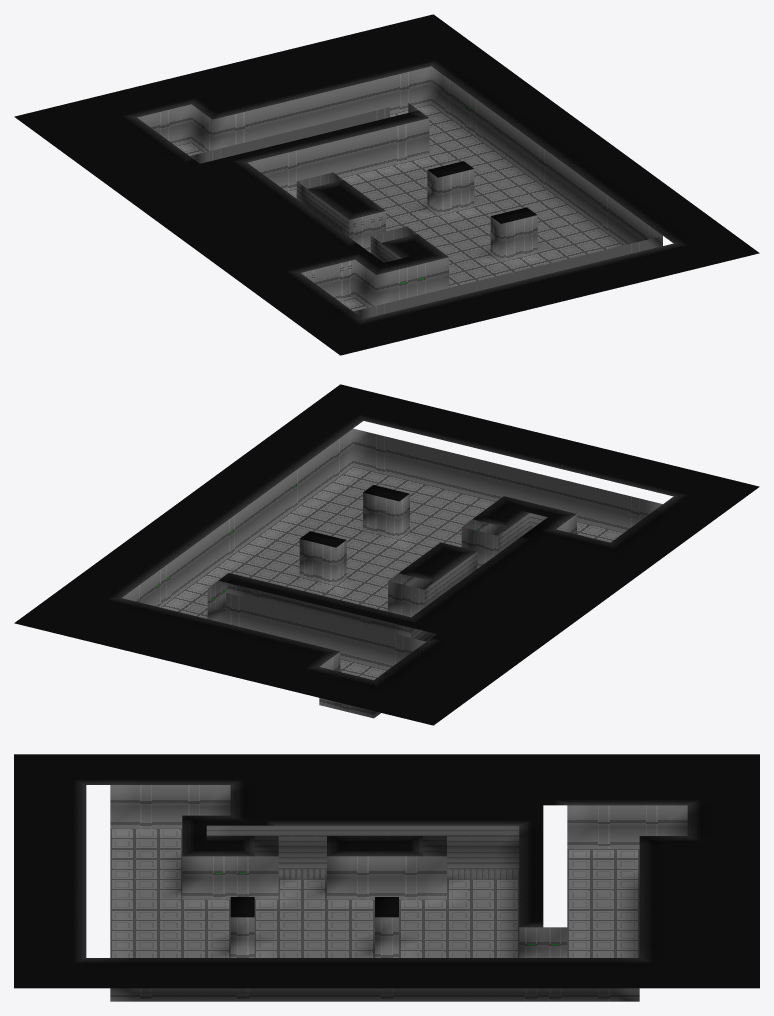
The model's file is Arena4.obj.
The picture shows the model from 3 angles, top to bottom: view 1: azimuth 30°, elevation 25°; view 2: azimuth 150°, elevation 25°; view 3: azimuth 270°, elevation 25°; orthographic projection. The views are drawn at different scales.
Parts seen in each view (by area): view 1: Default; view 2: Default; view 3: Default.
Boxes of the visible parts, x1,y1,x2,y2 form: Default: (14, 14, 759, 355); Default: (14, 384, 759, 725); Default: (14, 754, 759, 1001).
Bounding box in the file's own units: 23 × 2 × 31.
Materials: 1 (1 with a texture image).
